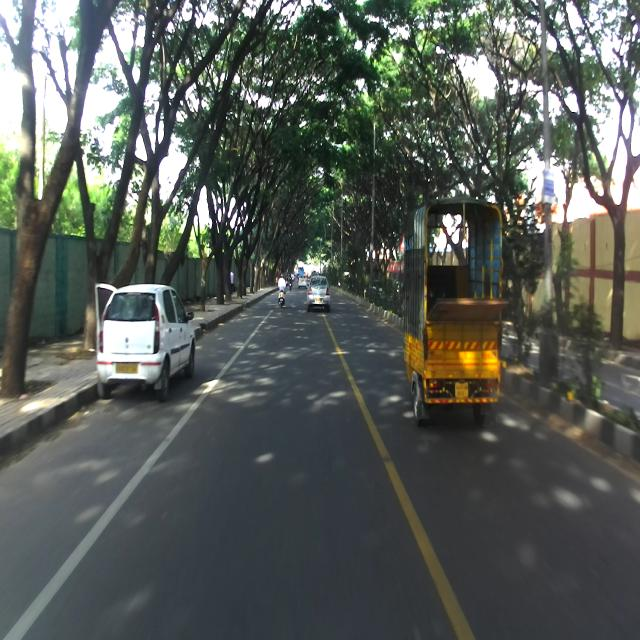car ahead at: (87, 275, 198, 398), (306, 274, 332, 316)
tree ahead at: (9, 16, 82, 406)
truck ahead at: (402, 190, 507, 426)
